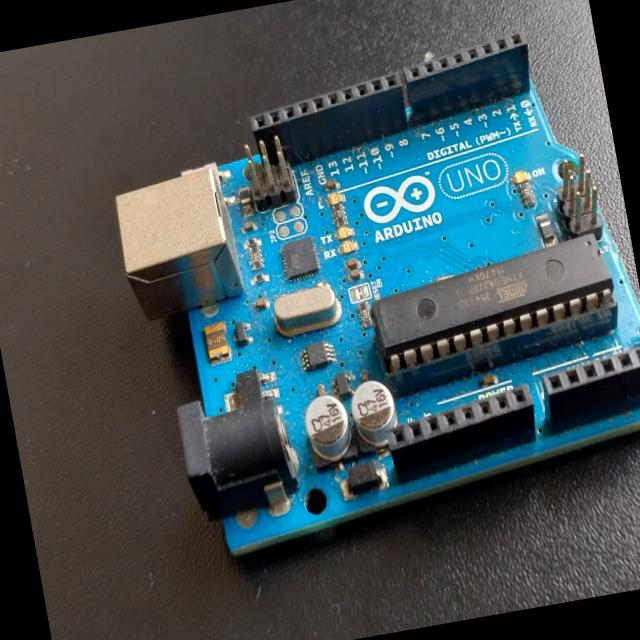arduino: (86, 1, 640, 532)
